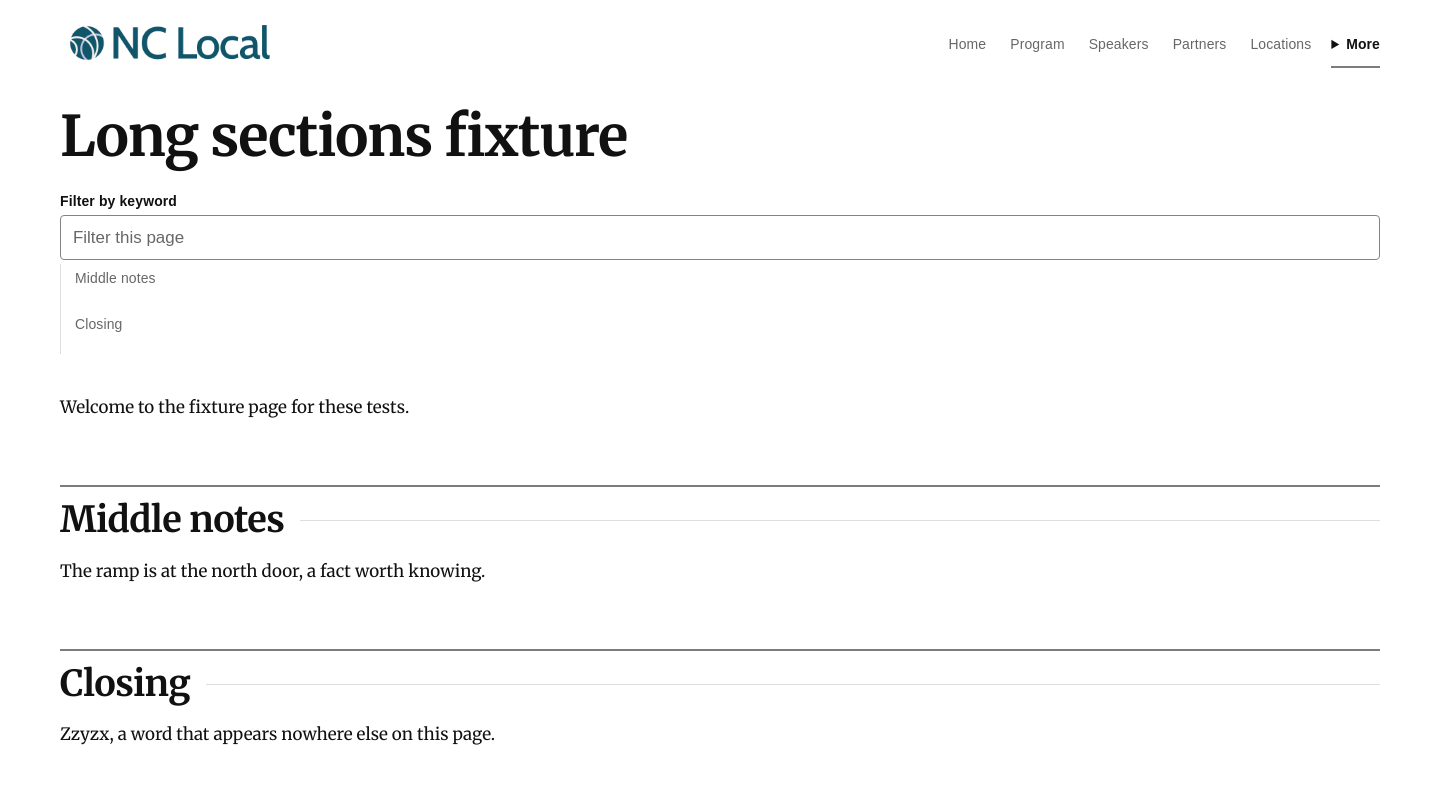
Scenario: ContentPage — search and section index on long pages › matches a section by its own label, not only by its block text (issue review decision #9)
Check: the heading "Long sections fixture" is shown, box left=60, top=101, right=627, bottom=171
Type "Middle" into the search field labelled "Filter by keyword".
click(720, 238); type("Middle")  # box left=60, top=215, right=1380, bottom=260
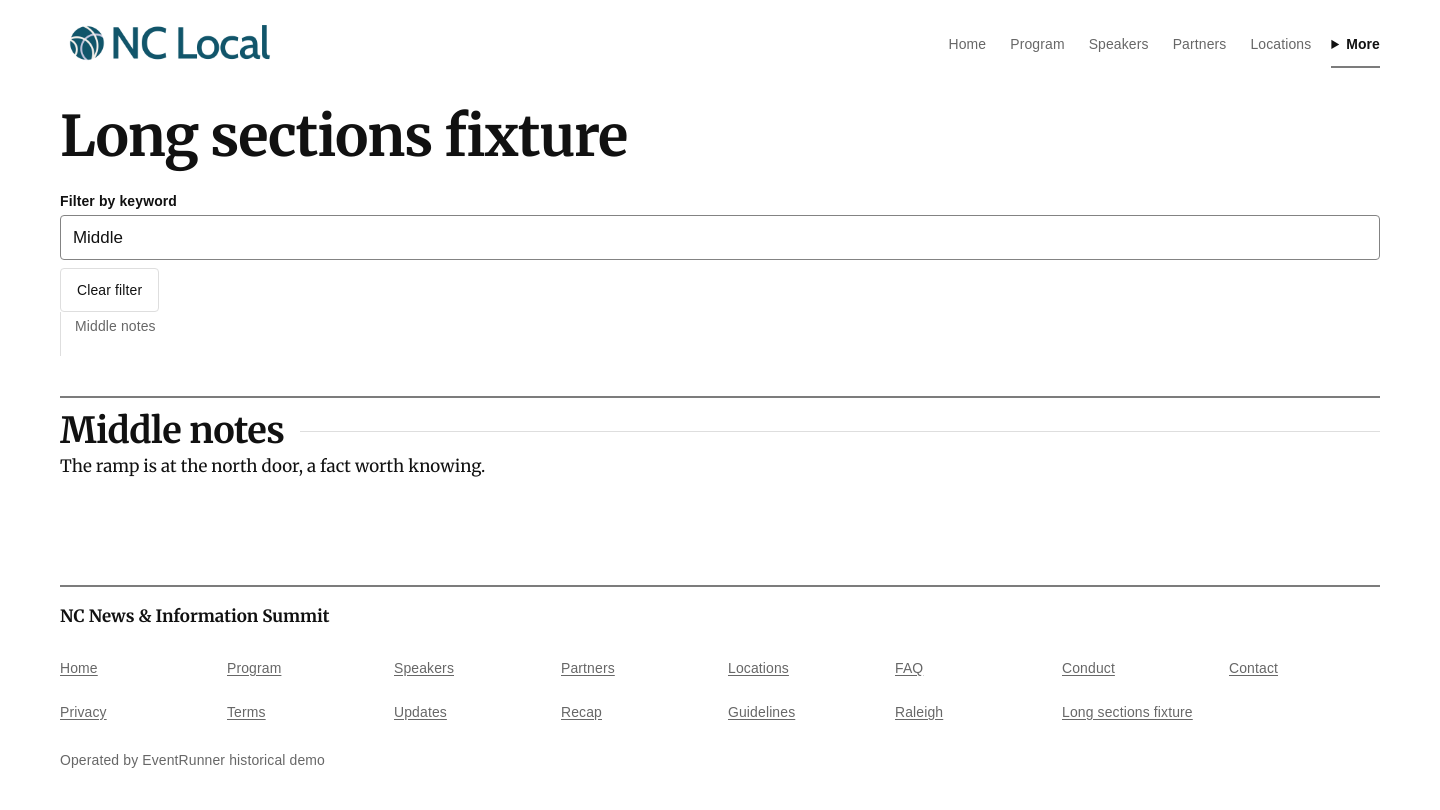
Check: the heading "Middle notes" is shown, box left=60, top=410, right=284, bottom=453
Check: the link "Closing" is gone
